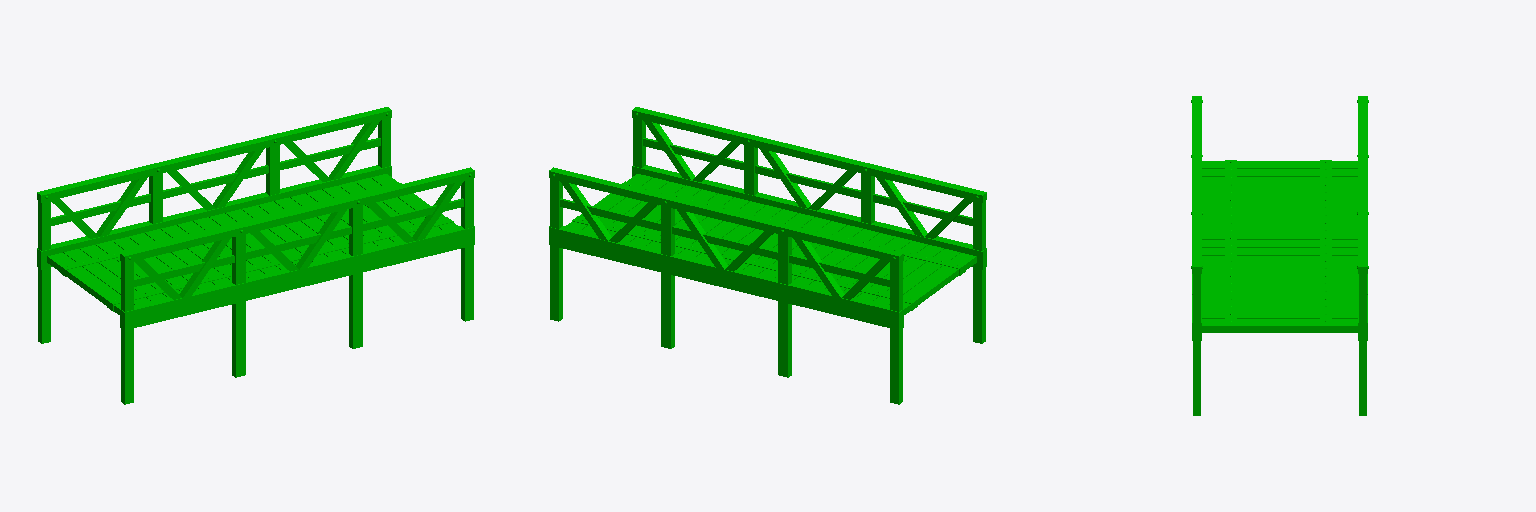
Rendered from puente2.obj.
3 views of the same model, side by side, from view 1: azimuth 30°, elevation 25°; view 2: azimuth 150°, elevation 25°; view 3: azimuth 270°, elevation 25° (orthographic).
Visible parts, largest first — view 1: Bridge.001; view 2: Bridge.001; view 3: Bridge.001.
Boxes of the visible parts, box(x1,y1,x2,y2) form: Bridge.001: box(37, 107, 474, 404); Bridge.001: box(549, 107, 986, 404); Bridge.001: box(1191, 96, 1368, 415).
Size of the model in its own units: 25.07 by 10.16 by 11.06.